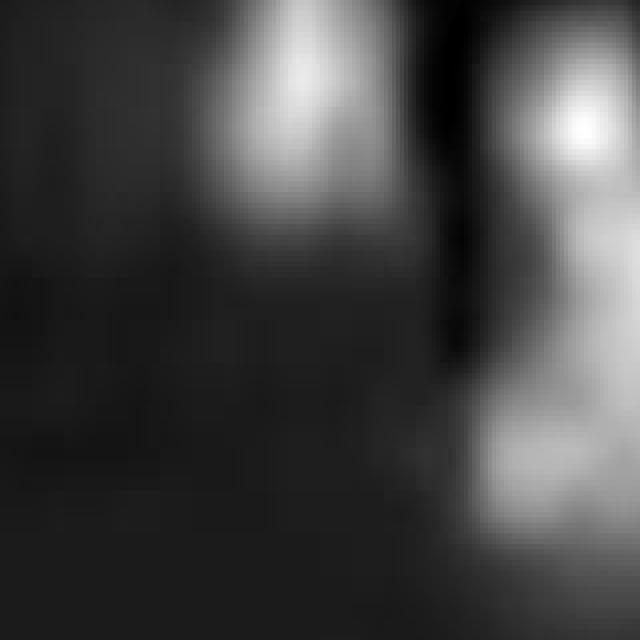person: (453, 1, 640, 609), (185, 1, 413, 252)
